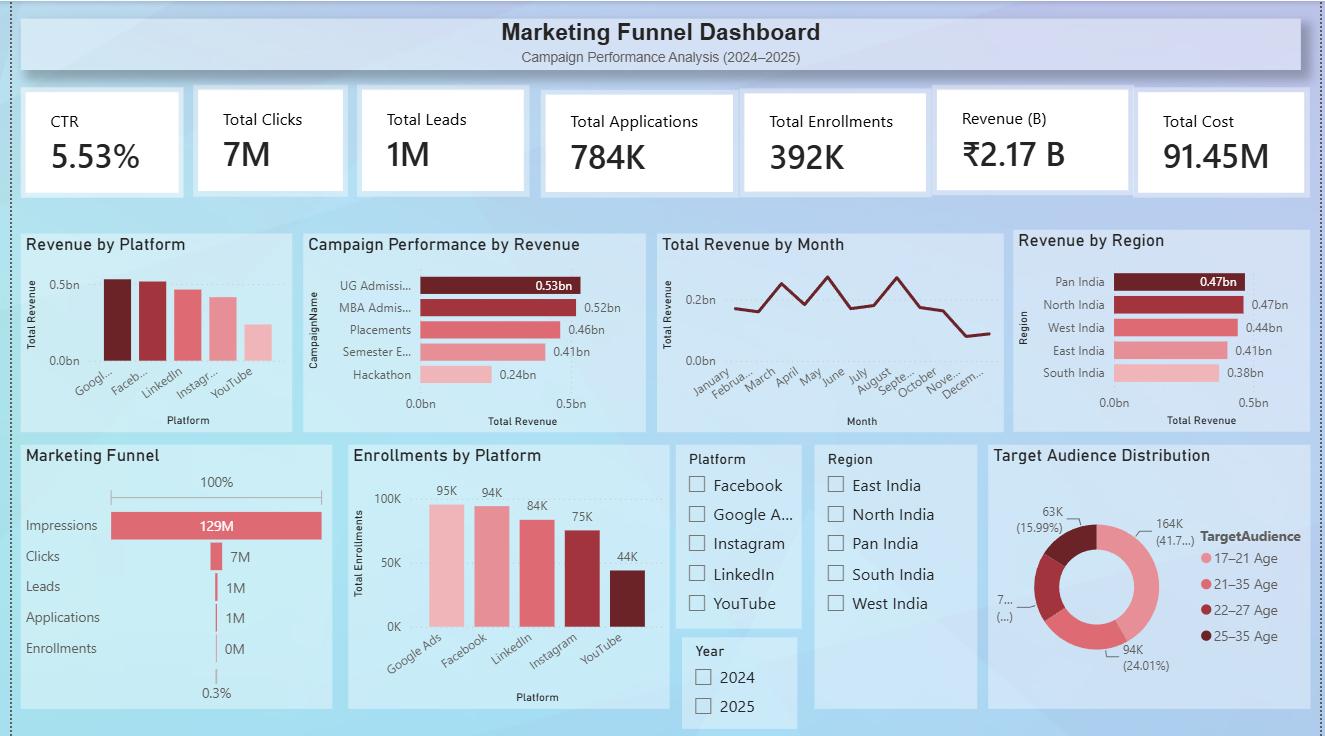

Layout of this report page (visuals, bound fields, positions):
{"tool":"powerbi","page":{"name":"Page 1","canvas":[1280,720],"ordinal":0},"visuals":[{"type":"cardVisual","fields":{"Data":["CampaignPerformance.Total Clicks"]},"box":[177,82.4,151.4,109.5],"z":0},{"type":"cardVisual","fields":{"Data":["CampaignPerformance.Total Leads"]},"box":[337.8,82.4,168.9,109.5],"z":1000},{"type":"cardVisual","fields":{"Data":["CampaignPerformance.Total Applications"]},"box":[517.6,86.5,193.2,105.4],"z":2000},{"type":"cardVisual","fields":{"Data":["CampaignPerformance.Total Enrollments"]},"box":[712.2,85.1,187.8,106.8],"z":3000},{"type":"cardVisual","fields":{"Data":["CampaignPerformance.Revenue (B)"]},"box":[900,82.4,197.3,108.1],"z":4000},{"type":"cardVisual","fields":{"Data":["CampaignPerformance.Total Cost"]},"box":[1097.3,83.8,173,108.1],"z":5000},{"type":"cardVisual","fields":{"Data":["CampaignPerformance.CTR"]},"box":[8.1,83.8,159.5,108.1],"z":6000},{"type":"clusteredColumnChart","title":"Revenue by Platform","fields":{"Category":["CampaignPerformance.Platform"],"Y":["CampaignPerformance.Total Revenue"]},"box":[8.6,227.4,265.4,194.4],"z":7000},{"type":"funnel","title":"Marketing Funnel","fields":{"Category":["Funnel Table.Stage"],"Y":["Sum(Funnel Table.Value)"]},"box":[8.6,434.1,304.5,258],"z":8000},{"type":"clusteredBarChart","title":"Campaign Performance by Revenue","fields":{"Y":["CampaignPerformance.Total Revenue"],"Category":["CampaignPerformance.CampaignName"]},"box":[285.1,227,335.1,194.6],"z":9000},{"type":"lineChart","fields":{"Y":["CampaignPerformance.Total Revenue"],"Category":["CampaignPerformance.Date.Variation.Date Hierarchy.Month"]},"box":[631.1,227,339.2,194.6],"z":10000},{"type":"clusteredBarChart","title":"Revenue by Region","fields":{"Y":["CampaignPerformance.Total Revenue"],"Category":["CampaignPerformance.Region"]},"box":[979.7,224.3,290.5,197.3],"z":11000},{"type":"clusteredColumnChart","title":"Enrollments by Platform","fields":{"Category":["CampaignPerformance.Platform"],"Y":["CampaignPerformance.Total Enrollments"]},"box":[328.9,434.1,314.3,258],"z":12000},{"type":"donutChart","title":"Target Audience Distribution","fields":{"Y":["CampaignPerformance.Total Enrollments"],"Category":["CampaignPerformance.TargetAudience"]},"box":[955,434.1,315.5,258],"z":13000},{"type":"slicer","fields":{"Values":["CampaignPerformance.Region"]},"box":[785.1,434.1,159,258],"z":14000},{"type":"slicer","fields":{"Values":["CampaignPerformance.Date.Variation.Date Hierarchy.Year"]},"box":[655.4,622.4,112.5,89.3],"z":15000},{"type":"slicer","fields":{"Values":["CampaignPerformance.Platform"]},"box":[649.3,434.1,123.5,179.8],"z":16000},{"type":"textbox","title":"Marketing Funnel Dashboard","box":[8.6,17.1,1252.2,50.1],"z":17000}]}

Visuals, with their boxes in screenshot pixels (x1, y1, x2, y2), scaled from the page's 1280x720 canvas onto the 1325x736 screenshot:
cardVisual - CampaignPerformance.Total Clicks: 183 84 340 196
cardVisual - CampaignPerformance.Total Leads: 350 84 525 196
cardVisual - CampaignPerformance.Total Applications: 536 88 736 196
cardVisual - CampaignPerformance.Total Enrollments: 737 87 932 196
cardVisual - CampaignPerformance.Revenue (B): 932 84 1136 195
cardVisual - CampaignPerformance.Total Cost: 1136 86 1315 196
cardVisual - CampaignPerformance.CTR: 8 86 173 196
"Revenue by Platform" clusteredColumnChart: 9 232 284 431
"Marketing Funnel" funnel: 9 444 324 707
"Campaign Performance by Revenue" clusteredBarChart: 295 232 642 431
lineChart - CampaignPerformance.Total Revenue x CampaignPerformance.Date.Variation.Date Hierarchy.Month: 653 232 1004 431
"Revenue by Region" clusteredBarChart: 1014 229 1315 431
"Enrollments by Platform" clusteredColumnChart: 340 444 666 707
"Target Audience Distribution" donutChart: 989 444 1315 707
slicer - CampaignPerformance.Region: 813 444 977 707
slicer - CampaignPerformance.Date.Variation.Date Hierarchy.Year: 678 636 795 728
slicer - CampaignPerformance.Platform: 672 444 800 628
"Marketing Funnel Dashboard" textbox: 9 17 1305 69
